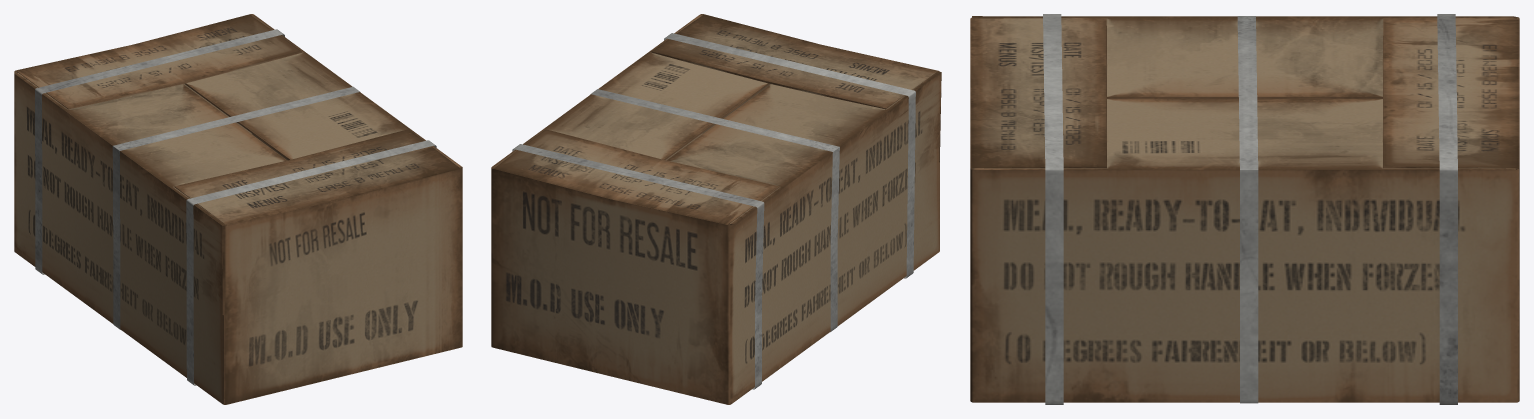
Rendered from ration_cardboard_box.glb.
3 renders of one model, left to right at view 1: azimuth 30°, elevation 25°; view 2: azimuth 150°, elevation 25°; view 3: azimuth 270°, elevation 25°, orthographic. The views are drawn at different scales.
Visible parts, largest first — view 1: closed box_0, SM_Box_strap.001_2, SM_Box_strap.002_3, SM_Box_strap_1; view 2: closed box_0, SM_Box_strap.001_2, SM_Box_strap_1, SM_Box_strap.002_3; view 3: closed box_0, SM_Box_strap.001_2, SM_Box_strap.002_3, SM_Box_strap_1.
Part boxes in pixels (box(x1,y1,x2,y2)): closed box_0: box(14, 14, 462, 404); SM_Box_strap.001_2: box(186, 140, 436, 385); SM_Box_strap.002_3: box(35, 29, 284, 274); SM_Box_strap_1: box(112, 86, 359, 329); closed box_0: box(491, 14, 941, 404); SM_Box_strap.001_2: box(664, 33, 915, 278); SM_Box_strap_1: box(590, 89, 839, 332); SM_Box_strap.002_3: box(512, 144, 764, 389); closed box_0: box(970, 16, 1519, 402); SM_Box_strap.001_2: box(1043, 14, 1063, 404); SM_Box_strap.002_3: box(1437, 14, 1457, 404); SM_Box_strap_1: box(1237, 16, 1258, 403).
Bounding box in the file's own units: 1.44 × 1.03 × 2.16.
1 material, 1 textured.
